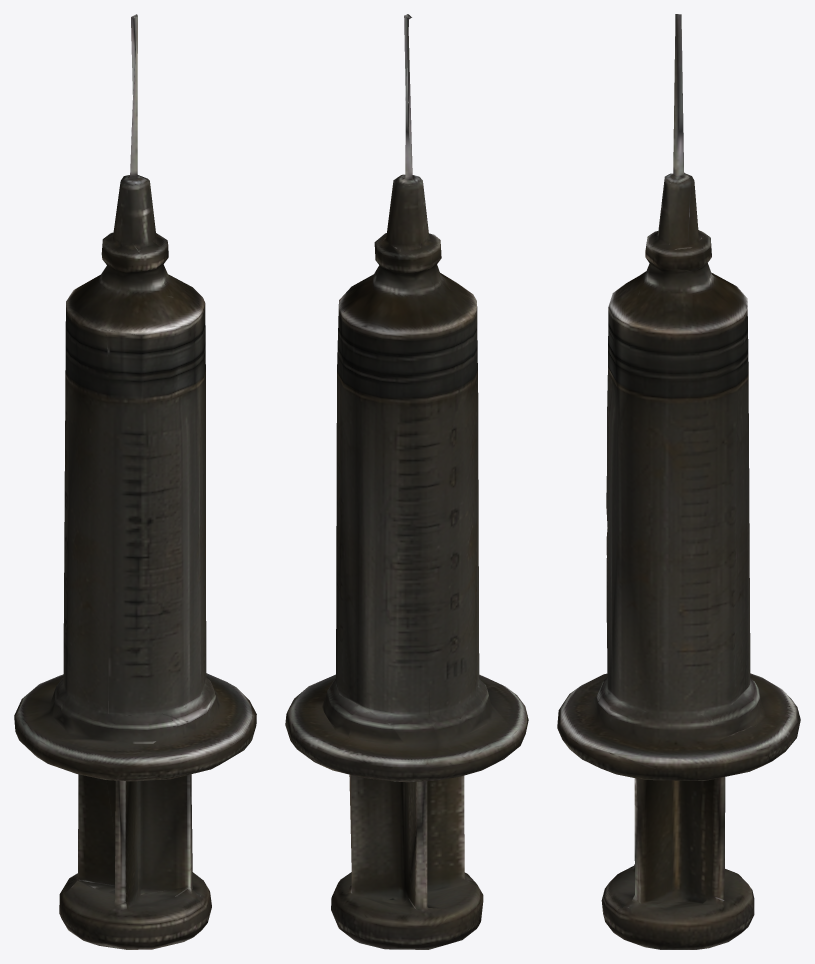
Rendered from needle.fbx.
3 renders of one model, left to right at view 1: azimuth 30°, elevation 25°; view 2: azimuth 150°, elevation 25°; view 3: azimuth 270°, elevation 25°, orthographic.
Parts seen in each view (by area): view 1: needle; view 2: needle; view 3: needle.
Boxes of the visible parts, x1,y1,x2,y2 form: needle: (14,14,256,949); needle: (285,14,528,949); needle: (557,14,800,949).
Bounding box in the file's own units: 83.1 × 341 × 82.89.
1 material, 1 textured.
